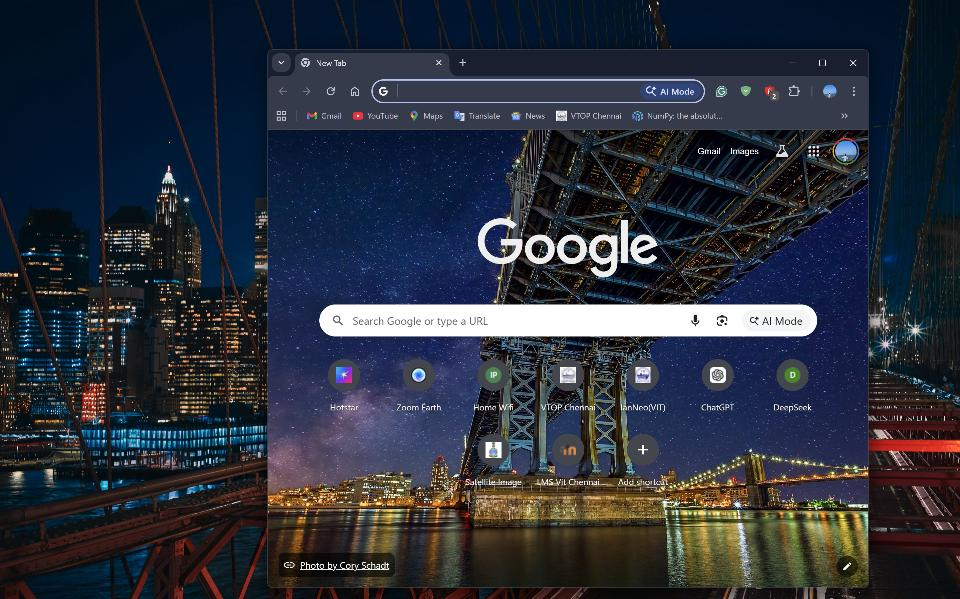close_button: (843, 51, 864, 75)
maximize_button: (811, 51, 832, 75)
minimize_button: (779, 50, 803, 77)
